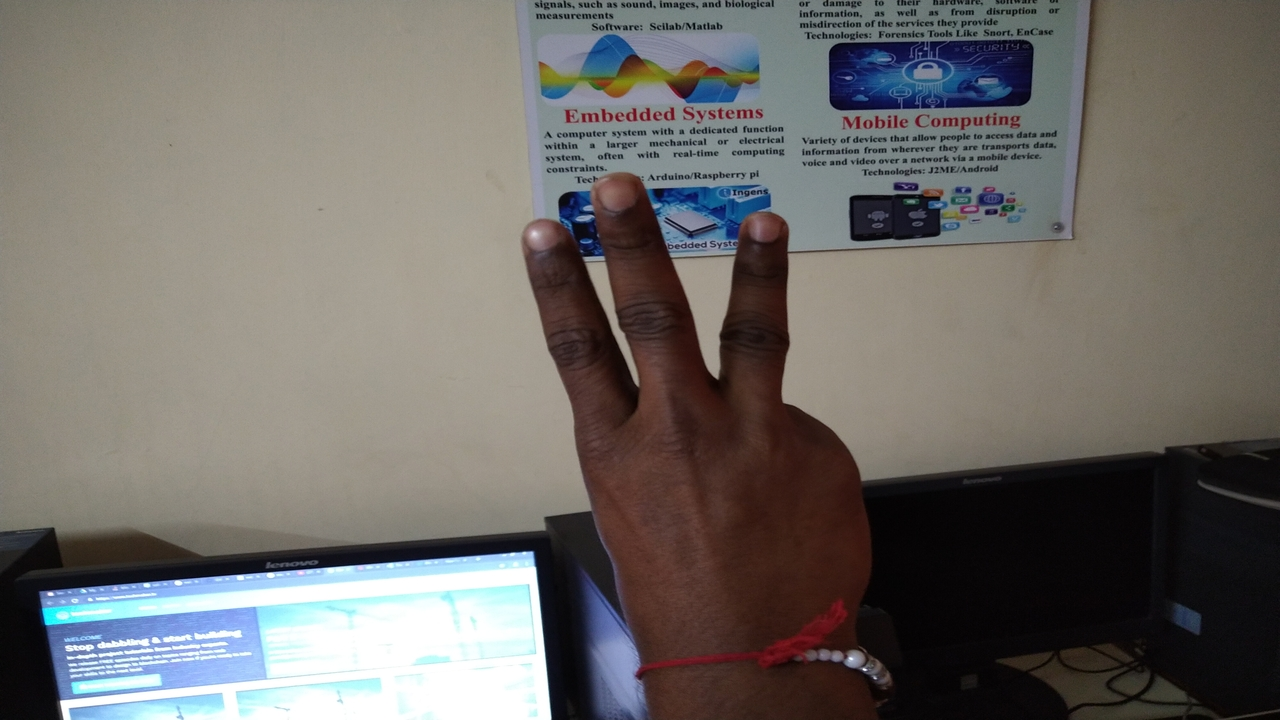fingertip: (736, 202, 798, 262), (588, 164, 650, 222), (508, 212, 572, 266)
